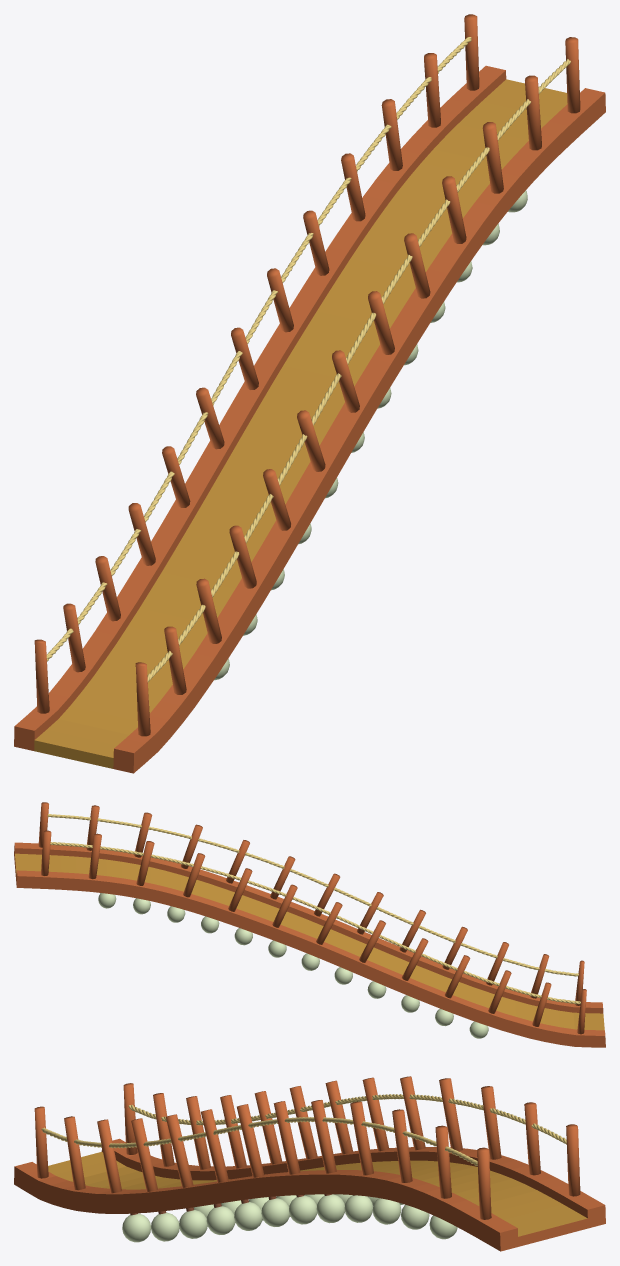
Rendered from brigesRope_Twist_004.fbx.
3 renders of one model, top to bottom at view 1: azimuth 30°, elevation 25°; view 2: azimuth 150°, elevation 25°; view 3: azimuth 270°, elevation 25°, orthographic. The views are drawn at different scales.
Visible parts, largest first — view 1: Rope.Twist.004; view 2: Rope.Twist.004; view 3: Rope.Twist.004.
Part boxes in pixels (left/top/right/bottom): Rope.Twist.004: left=14, top=14, right=605, bottom=773; Rope.Twist.004: left=14, top=802, right=605, bottom=1047; Rope.Twist.004: left=14, top=1076, right=605, bottom=1251.
Bounding box in the file's own units: 1377 × 620 × 964.
